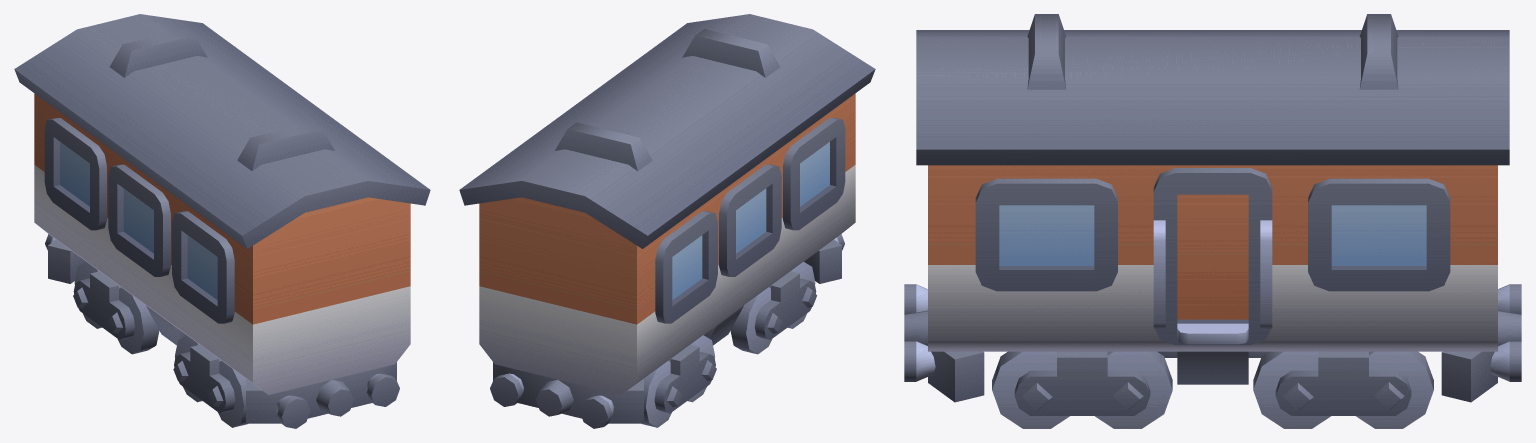
The model's file is Train Locomotive Passenger B.glb.
The picture shows the model from 3 angles, left to right: view 1: azimuth 30°, elevation 25°; view 2: azimuth 150°, elevation 25°; view 3: azimuth 270°, elevation 25°; orthographic projection. The views are drawn at different scales.
Visible parts, largest first — view 1: train-locomotive-passenger-b, wheels-back, wheels-front; view 2: train-locomotive-passenger-b, wheels-front, wheels-back; view 3: train-locomotive-passenger-b, wheels-back, wheels-front.
Boxes of the visible parts, left/top/right/bottom form: train-locomotive-passenger-b: left=14, top=14, right=430, bottom=428; wheels-back: left=73, top=262, right=159, bottom=354; wheels-front: left=173, top=335, right=247, bottom=427; train-locomotive-passenger-b: left=459, top=14, right=875, bottom=428; wheels-front: left=730, top=262, right=816, bottom=354; wheels-back: left=642, top=335, right=716, bottom=427; train-locomotive-passenger-b: left=904, top=14, right=1521, bottom=402; wheels-back: left=1253, top=351, right=1433, bottom=428; wheels-front: left=992, top=351, right=1172, bottom=428.
Bounding box in the file's own units: 1.25 × 1.65 × 2.6.
1 material, 1 textured.
